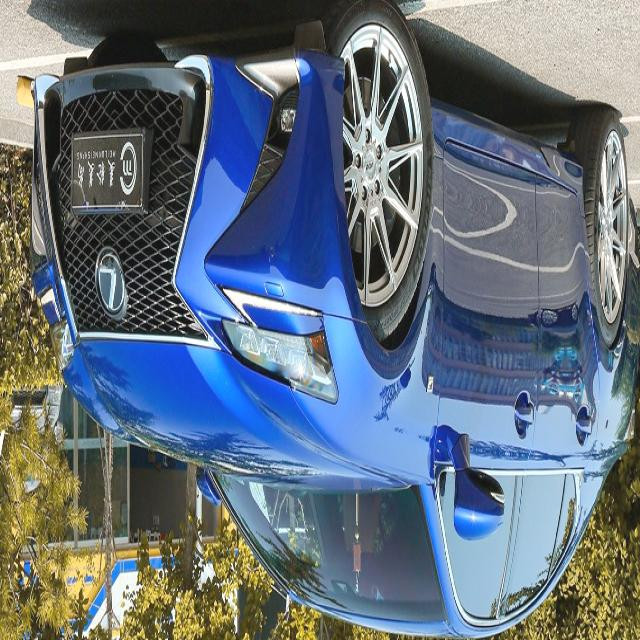blue: (29, 17, 640, 638)
